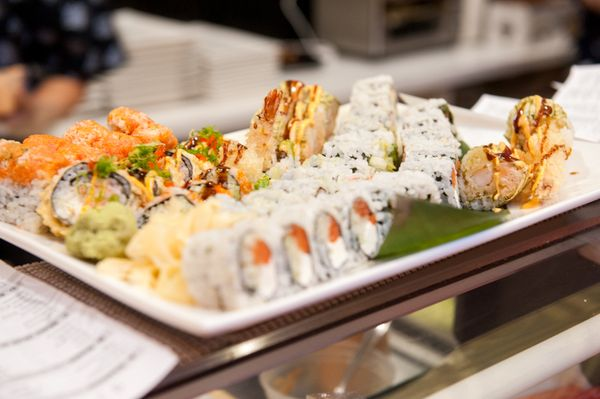curry: (0, 8, 597, 392)
